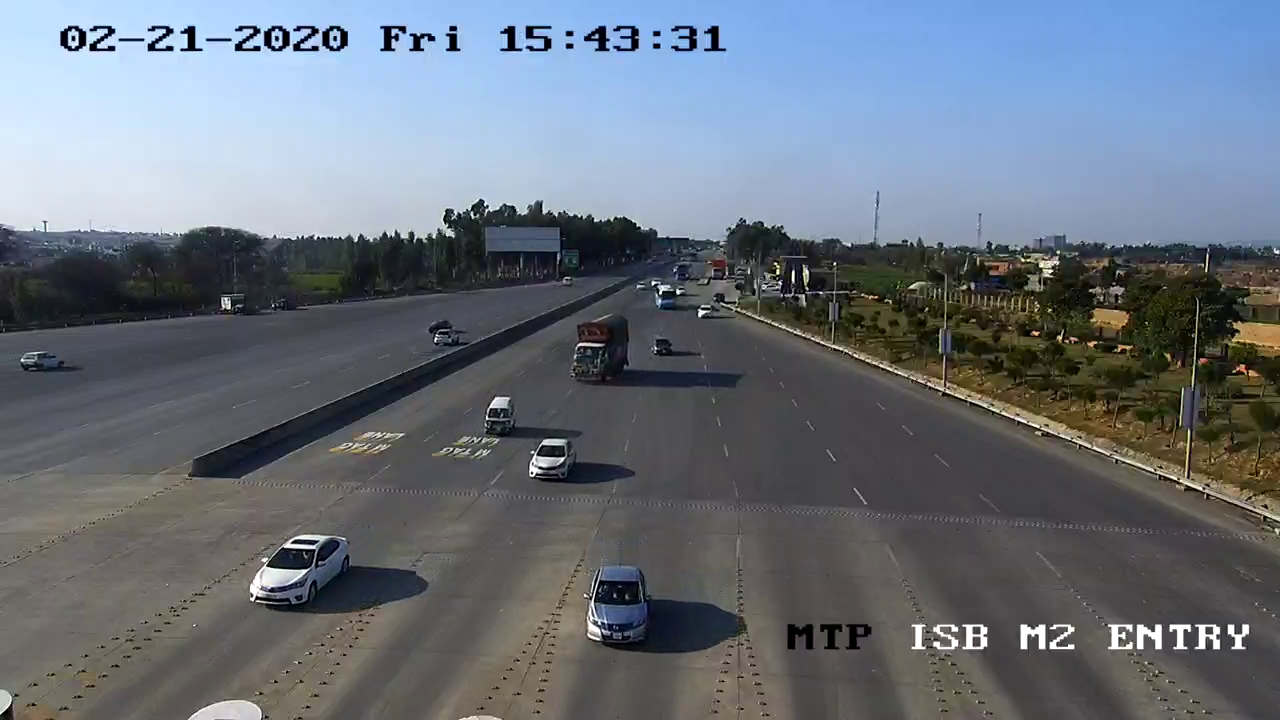f1: (240, 521, 355, 614), (575, 554, 657, 658), (522, 423, 580, 489), (475, 388, 522, 444)
